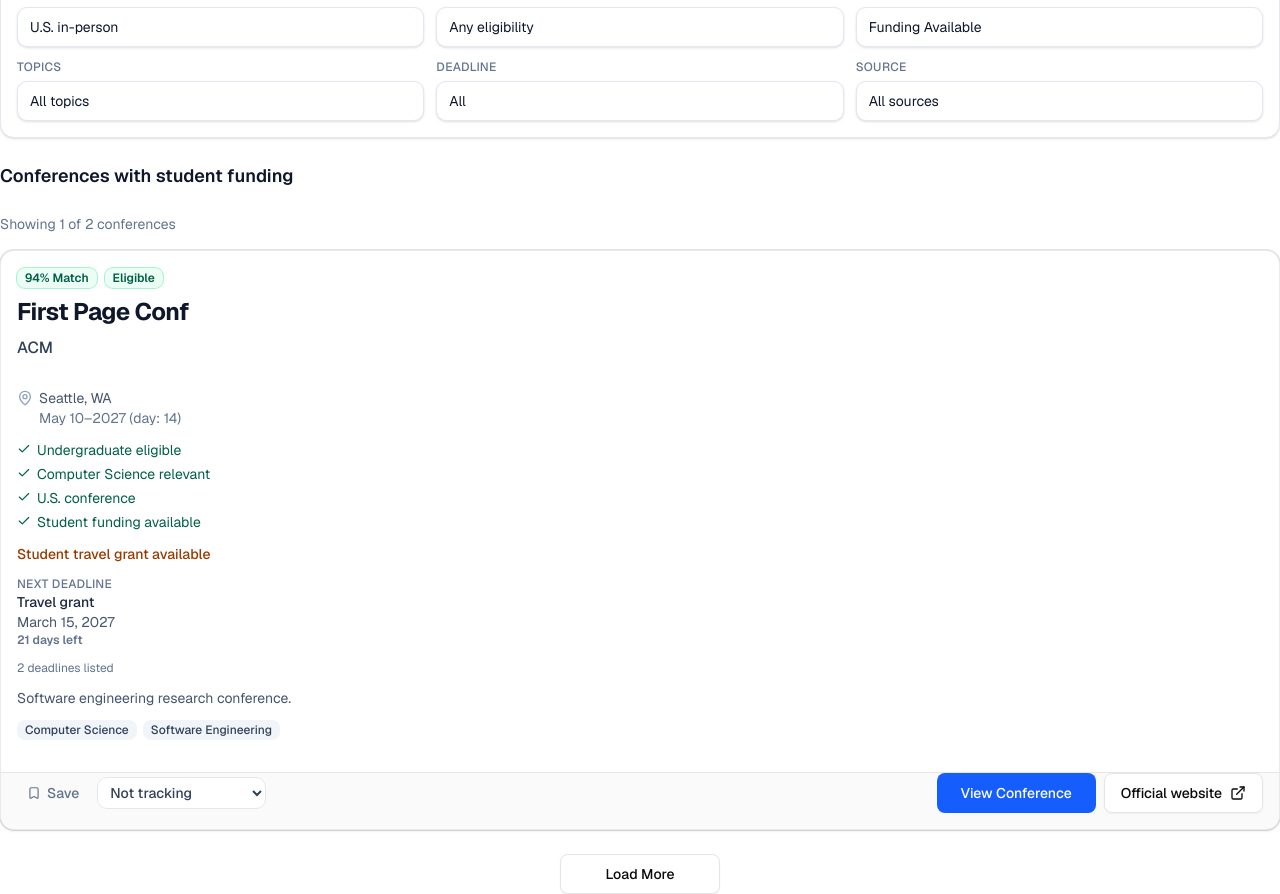
Scenario: ConferenceList › paginates with Load More
(page scrolled)
Expected: the link "First Page Conf" is shown, left=17, top=296, right=189, bottom=327
Click the button "Load More" at (640, 874), box left=560, top=854, right=720, bottom=893
(page scrolled)
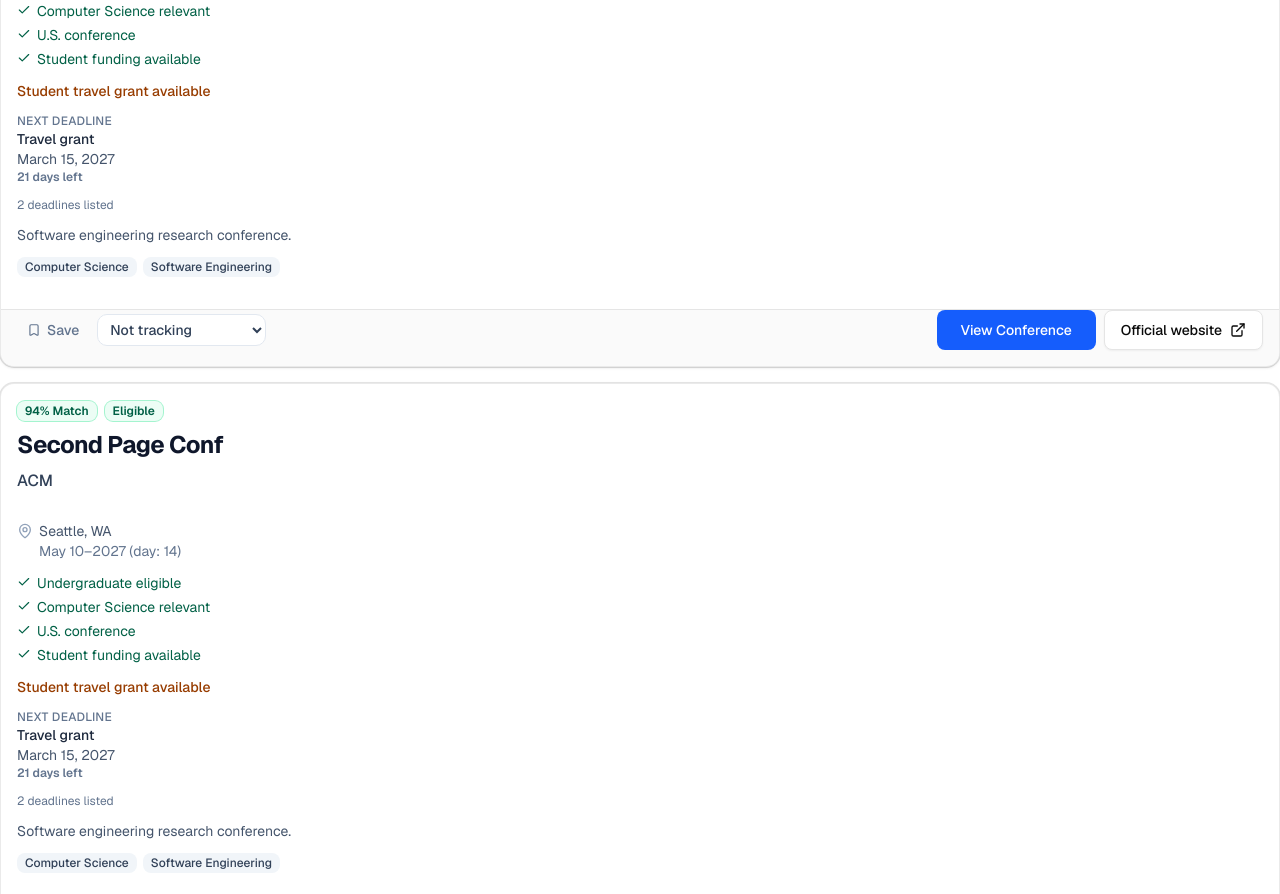
Expected: the link "Second Page Conf" is shown, left=17, top=429, right=223, bottom=460
